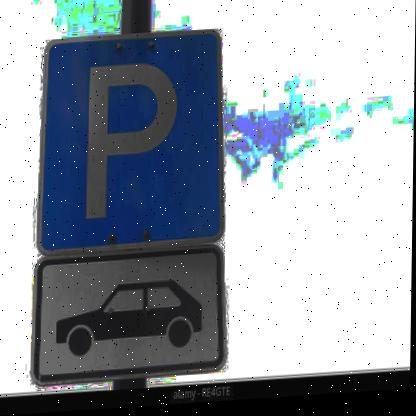Parking: (33, 30, 225, 257)
